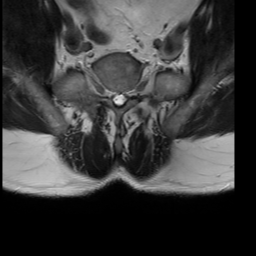CCS_severe_stenosis: (116, 82, 122, 115)
LFS_stenosis: (129, 78, 136, 104)
LLS_normal: (122, 83, 129, 110)
RFS_normal: (102, 78, 109, 105)
RLS_normal: (109, 82, 116, 109)
